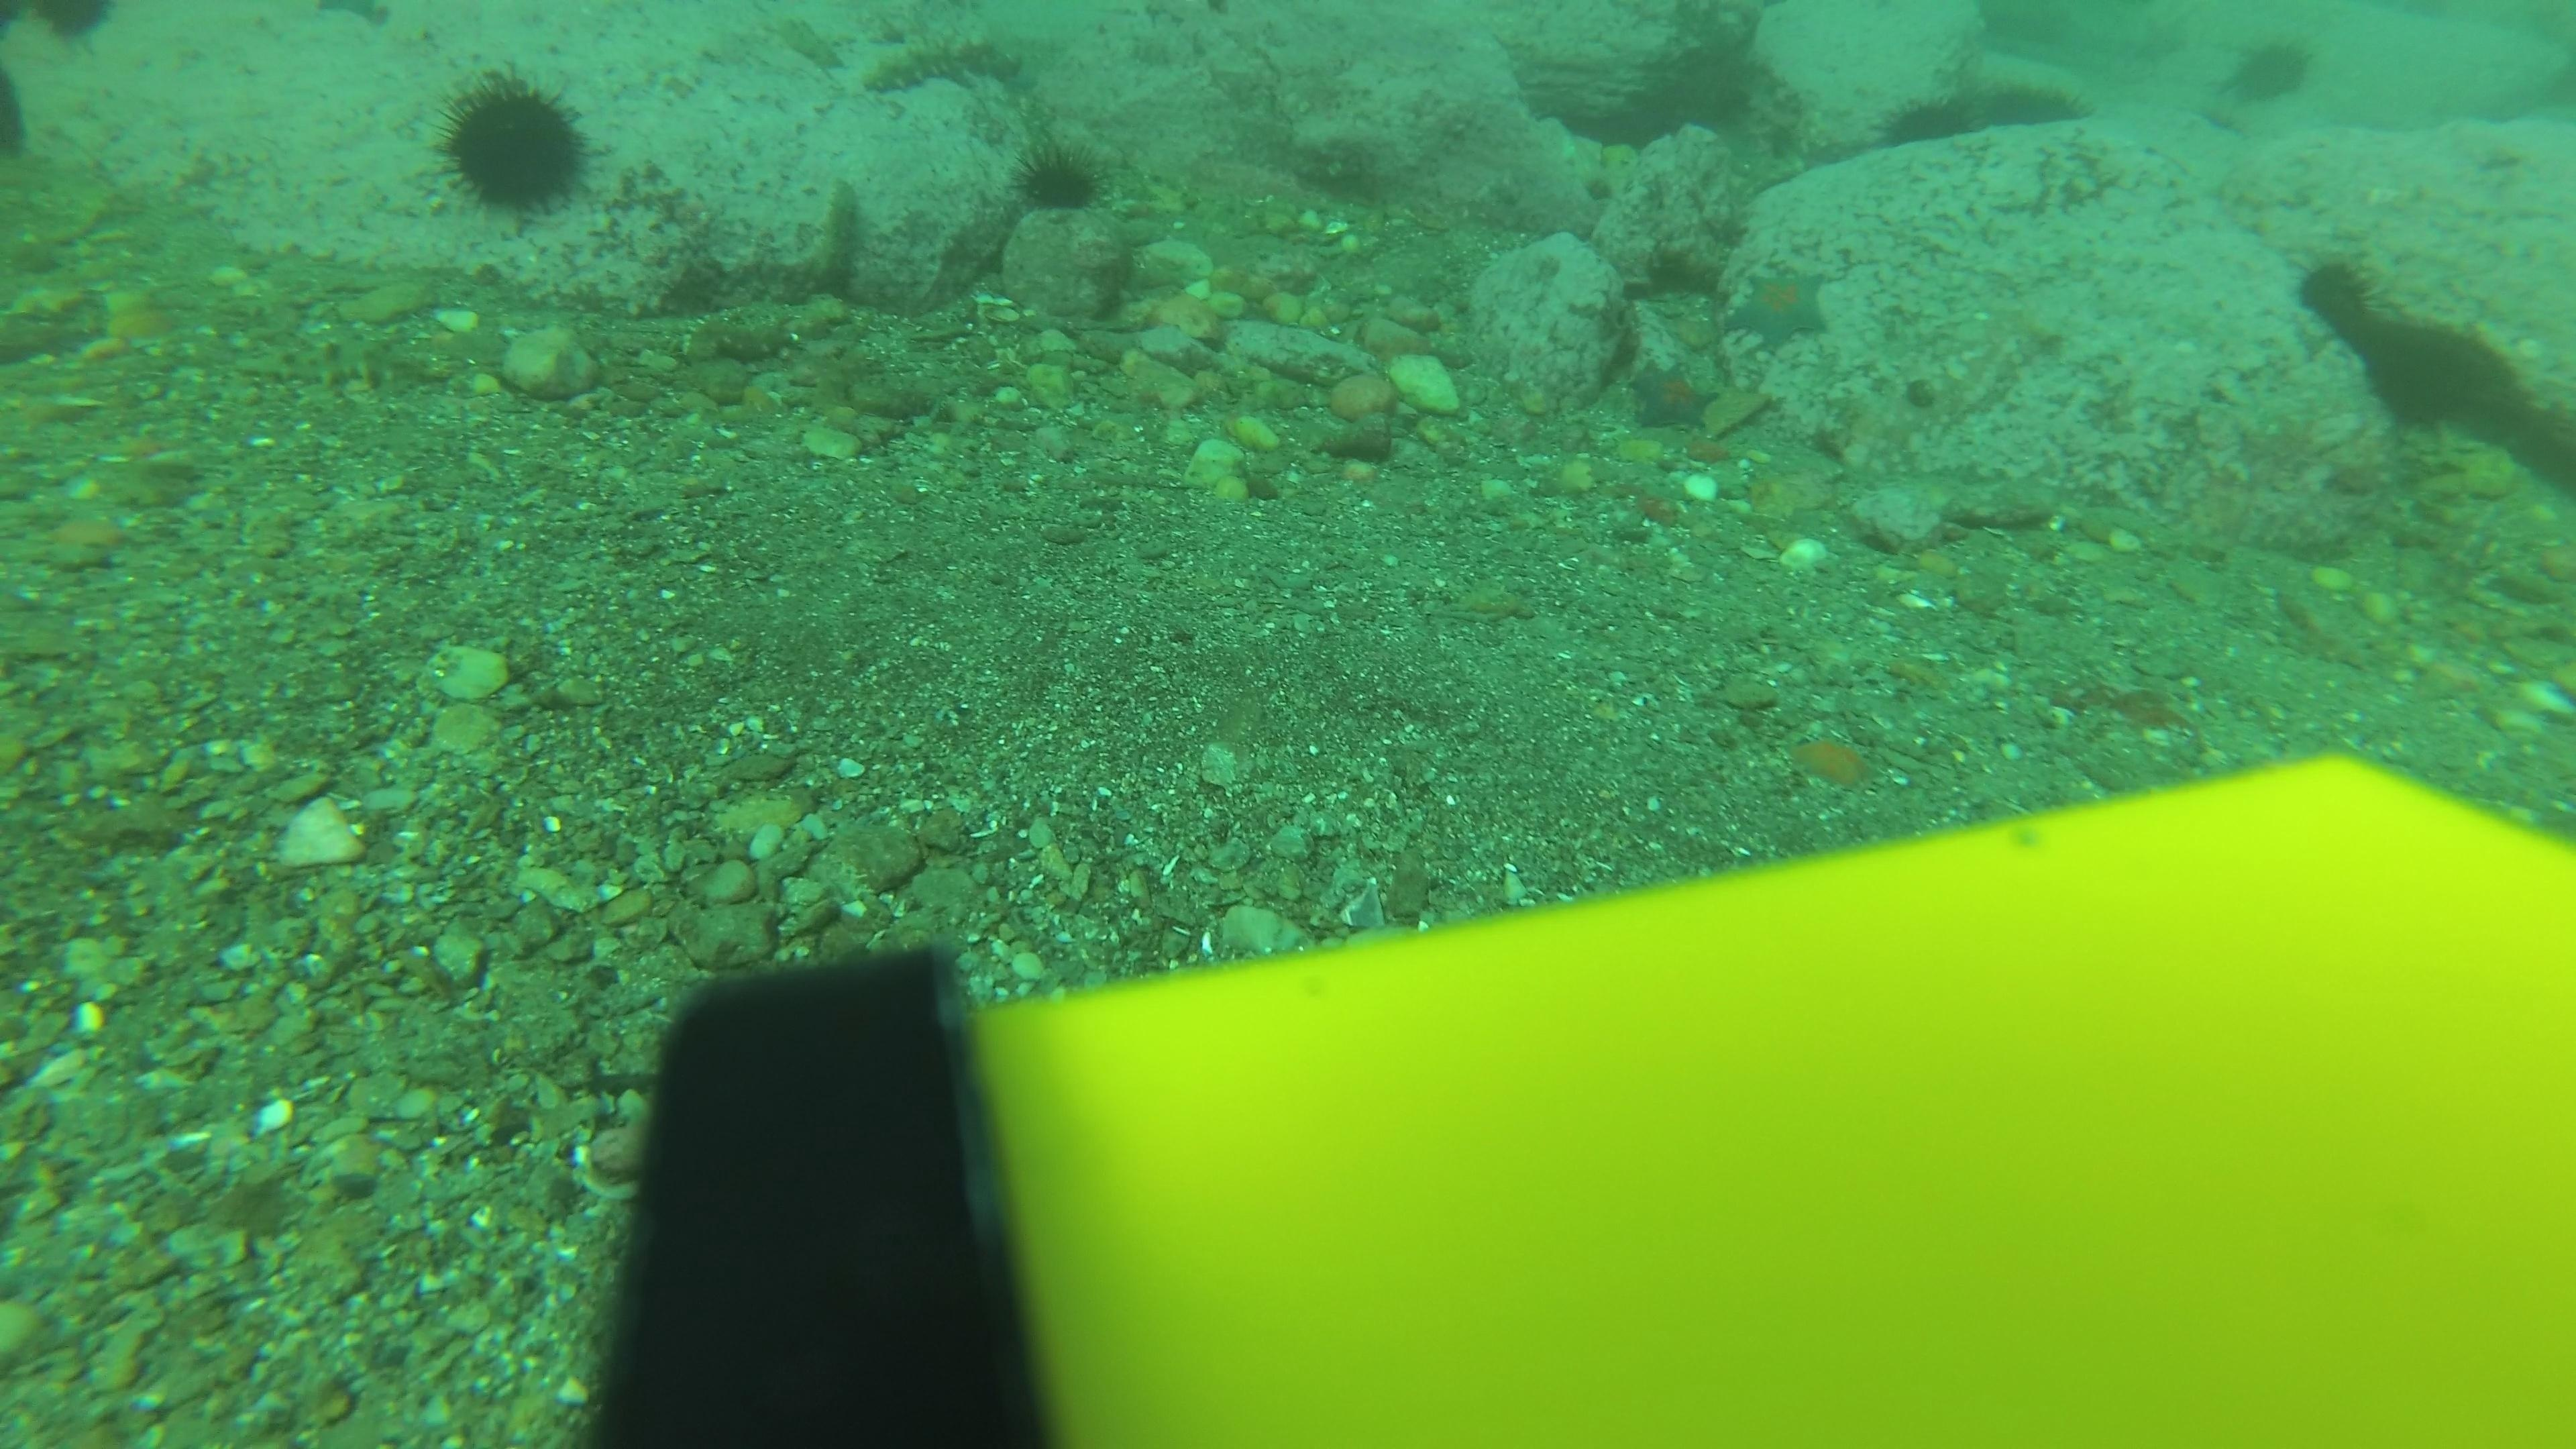echinus: (432, 67, 596, 223), (2291, 249, 2385, 341), (2220, 30, 2318, 108), (1014, 138, 1106, 214), (1879, 88, 1974, 150), (1990, 78, 2091, 133), (28, 0, 119, 50)
holothurian: (862, 30, 1028, 96), (812, 177, 869, 295), (695, 313, 807, 364)
starfish: (1721, 258, 1838, 352), (74, 276, 186, 364), (1780, 725, 1888, 796), (1624, 357, 1721, 433), (1437, 575, 1541, 630)
